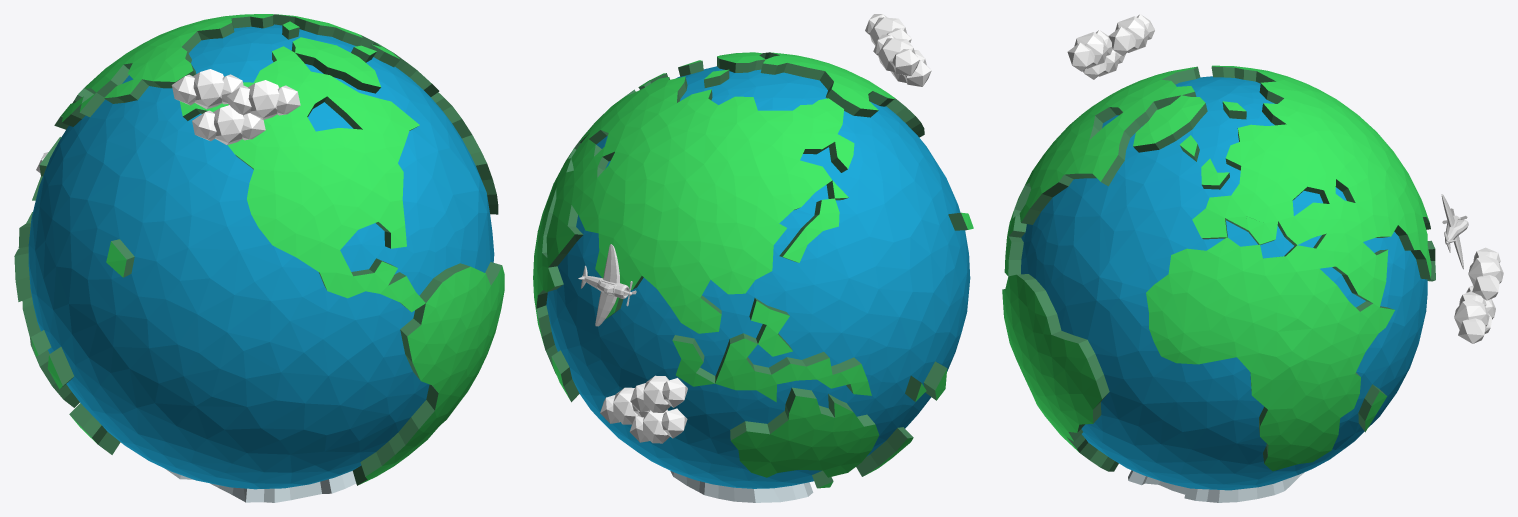
3 renders of one model, left to right at view 1: azimuth 30°, elevation 25°; view 2: azimuth 150°, elevation 25°; view 3: azimuth 270°, elevation 25°, orthographic. The views are drawn at different scales.
Parts seen in each view (by area): view 1: Sphere002, Sphere002_1, Sphere002_2, Cloud_1001, Sphere002_3; view 2: Sphere002, Sphere002_1, Sphere002_2, Cloud_1002, Cloud_1001, Sphere002_3, body_Circle; view 3: Sphere002_1, Sphere002, Sphere002_2, Cloud_1001, Cloud_1002, Sphere002_3, body_Circle.
Part boxes in pixels (x1,y1,x2,y2): Sphere002: [28, 24, 494, 489]; Sphere002_1: [31, 14, 504, 484]; Sphere002_2: [14, 14, 501, 485]; Cloud_1001: [171, 69, 300, 144]; Sphere002_3: [166, 469, 356, 502]; Sphere002: [546, 66, 970, 488]; Sphere002_1: [533, 52, 973, 488]; Sphere002_2: [536, 52, 967, 488]; Cloud_1002: [600, 375, 687, 443]; Cloud_1001: [865, 14, 931, 86]; Sphere002_3: [670, 471, 813, 502]; body_Circle: [578, 244, 636, 326]; Sphere002_1: [1002, 65, 1431, 471]; Sphere002: [1021, 76, 1427, 490]; Sphere002_2: [1003, 66, 1435, 471]; Cloud_1001: [1067, 14, 1154, 79]; Cloud_1002: [1454, 247, 1503, 343]; Sphere002_3: [1128, 470, 1304, 502]; body_Circle: [1441, 194, 1468, 269].
Size of the model in its own units: 2.09 by 2.24 by 2.42.
